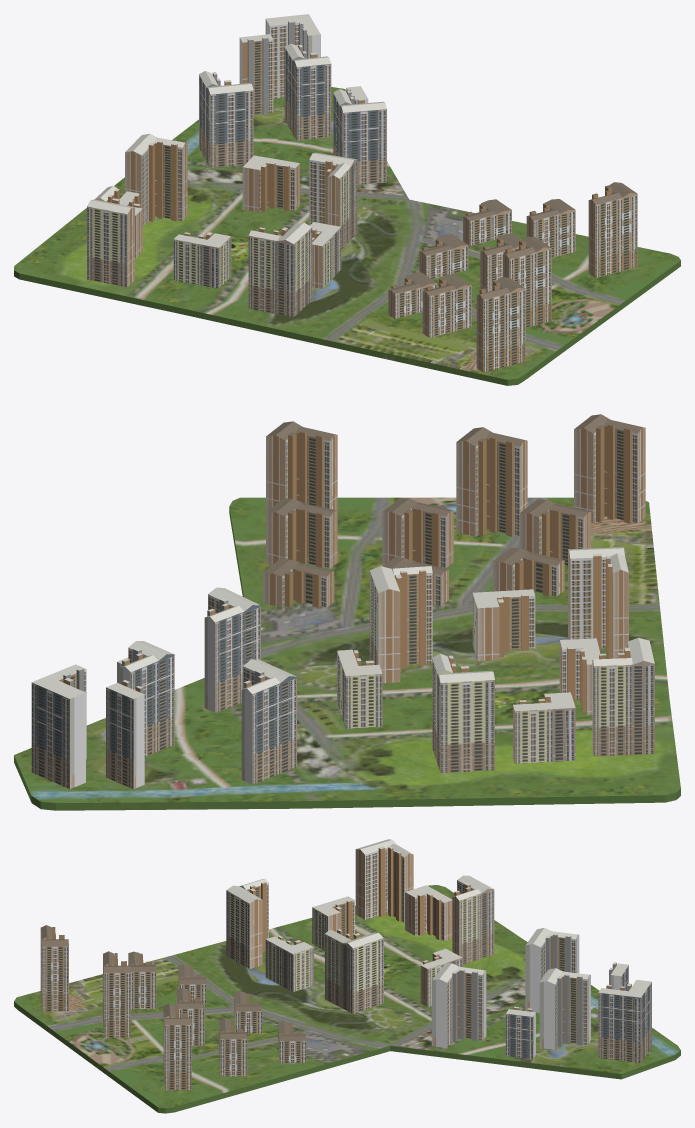
Rendered from ICJ00104_D.glb.
The picture shows the model from 3 angles, top to bottom: view 1: azimuth 30°, elevation 25°; view 2: azimuth 150°, elevation 25°; view 3: azimuth 270°, elevation 25°; orthographic projection. The views are drawn at different scales.
Parts seen in each view (by area): view 1: MainBuilding; view 2: MainBuilding; view 3: MainBuilding.
Boxes of the visible parts, x1,y1,x2,y2 form: MainBuilding: (14,14,680,385); MainBuilding: (14,414,680,810); MainBuilding: (14,839,680,1113).
Bounding box in the file's own units: 3525 × 542 × 4451.
1 material, 1 textured.
